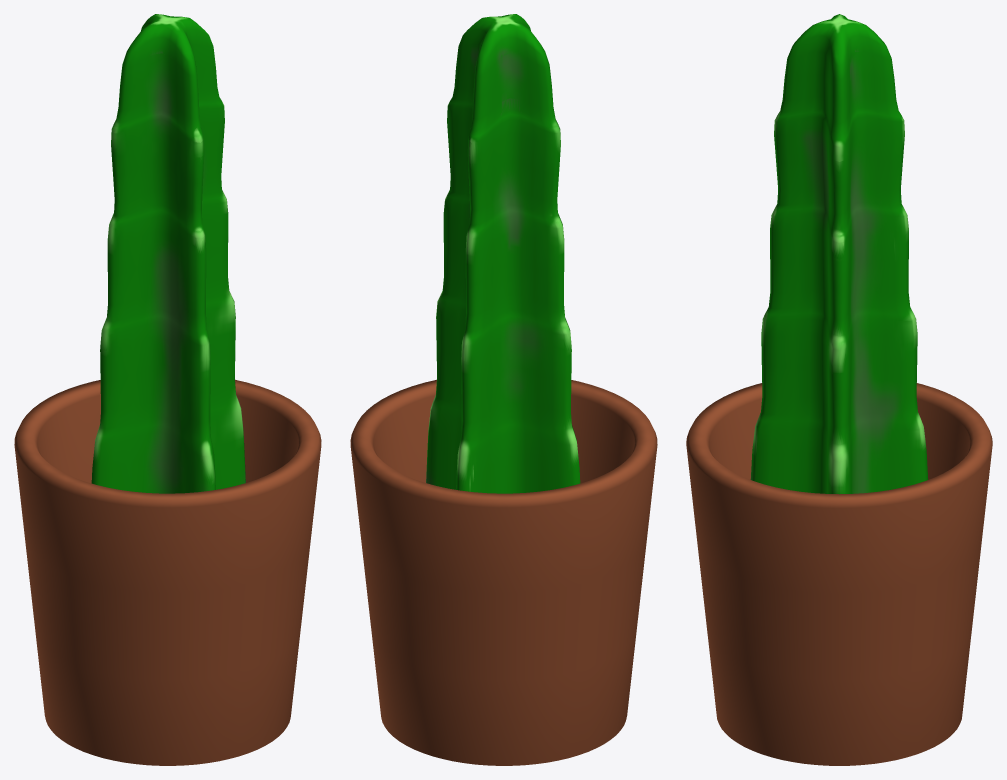
Rendered from Cactus.fbx.
3 renders of one model, left to right at view 1: azimuth 30°, elevation 25°; view 2: azimuth 150°, elevation 25°; view 3: azimuth 270°, elevation 25°, orthographic.
Visible parts, largest first — view 1: Cactus; view 2: Cactus; view 3: Cactus.
Part boxes in pixels (x1,y1,x2,y2): Cactus: (14,14,321,765); Cactus: (350,14,657,765); Cactus: (686,14,992,765).
Size of the model in its own units: 152 by 383 by 152.
Materials: 3 (1 with a texture image).
